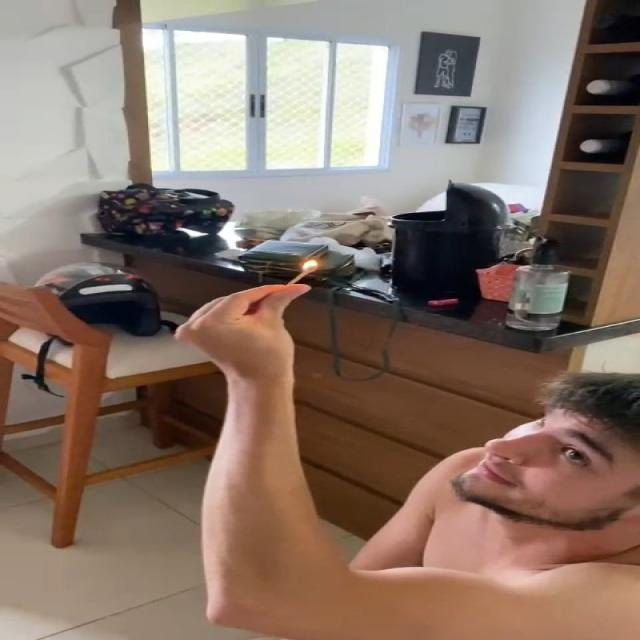fire: (301, 258, 321, 276)
